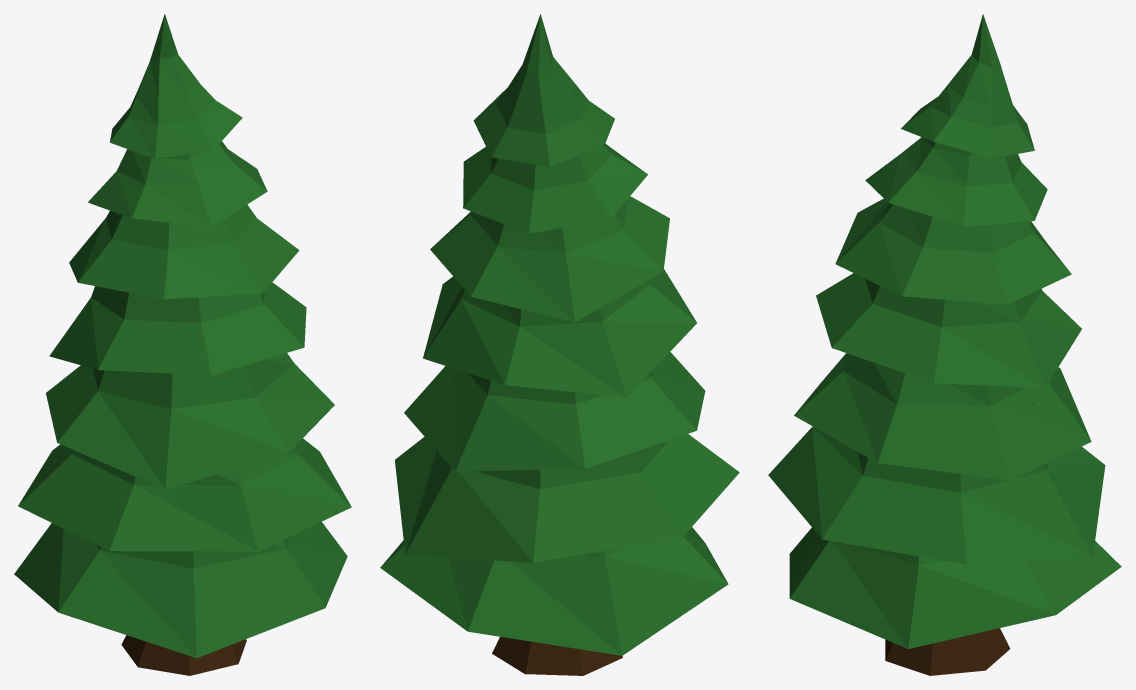
Rendered from fir_1.glb.
The picture shows the model from 3 angles, left to right: view 1: azimuth 30°, elevation 25°; view 2: azimuth 150°, elevation 25°; view 3: azimuth 270°, elevation 25°; orthographic projection. The views are drawn at different scales.
Parts seen in each view (by area): view 1: Cylinder.001; view 2: Cylinder.001; view 3: Cylinder.001.
Boxes of the visible parts, <box> form: Cylinder.001: <box>14,14,351,675</box>; Cylinder.001: <box>380,14,739,675</box>; Cylinder.001: <box>768,14,1121,675</box>.
Bounding box in the file's own units: 4.53 × 9.26 × 4.68.
